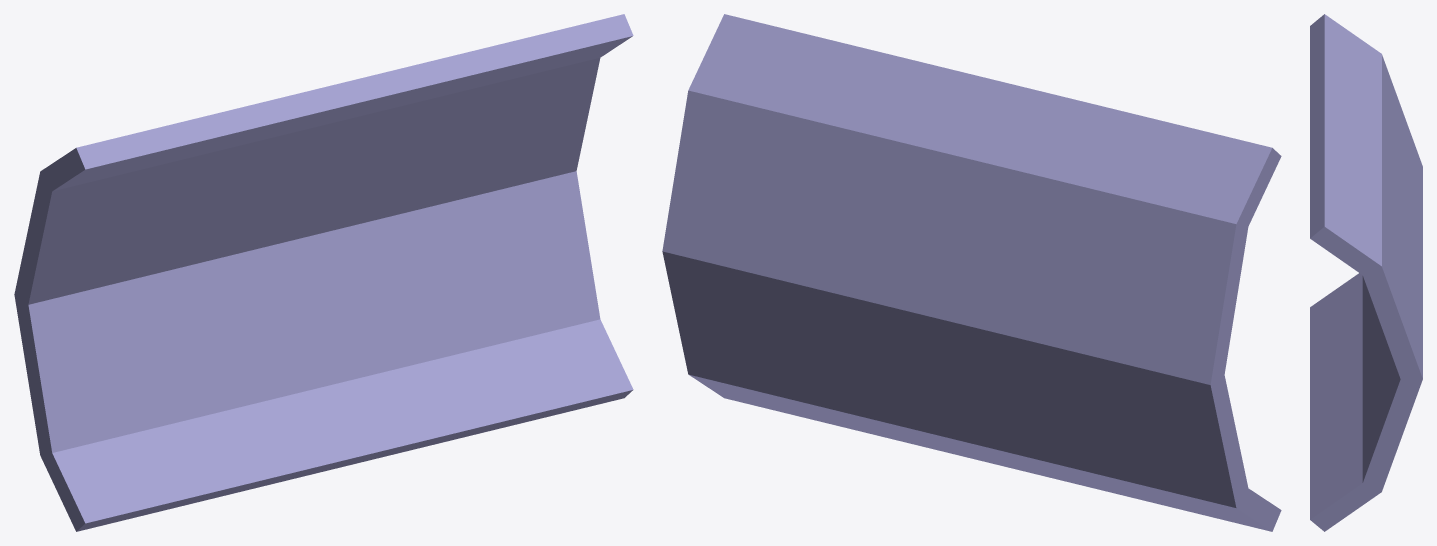
The model's file is corridor_wall_main.fbx.
3 views of the same model, side by side, from view 1: azimuth 30°, elevation 25°; view 2: azimuth 150°, elevation 25°; view 3: azimuth 270°, elevation 25° (orthographic). The views are drawn at different scales.
Parts seen in each view (by area): view 1: base_corridor_wall_L; view 2: base_corridor_wall_L; view 3: base_corridor_wall_L.
Boxes of the visible parts, left/top/right/bottom form: base_corridor_wall_L: left=14, top=14, right=633, bottom=531; base_corridor_wall_L: left=662, top=14, right=1281, bottom=531; base_corridor_wall_L: left=1310, top=14, right=1422, bottom=531.
Size of the model in its own units: 44.64 by 29.9 by 10.02.
